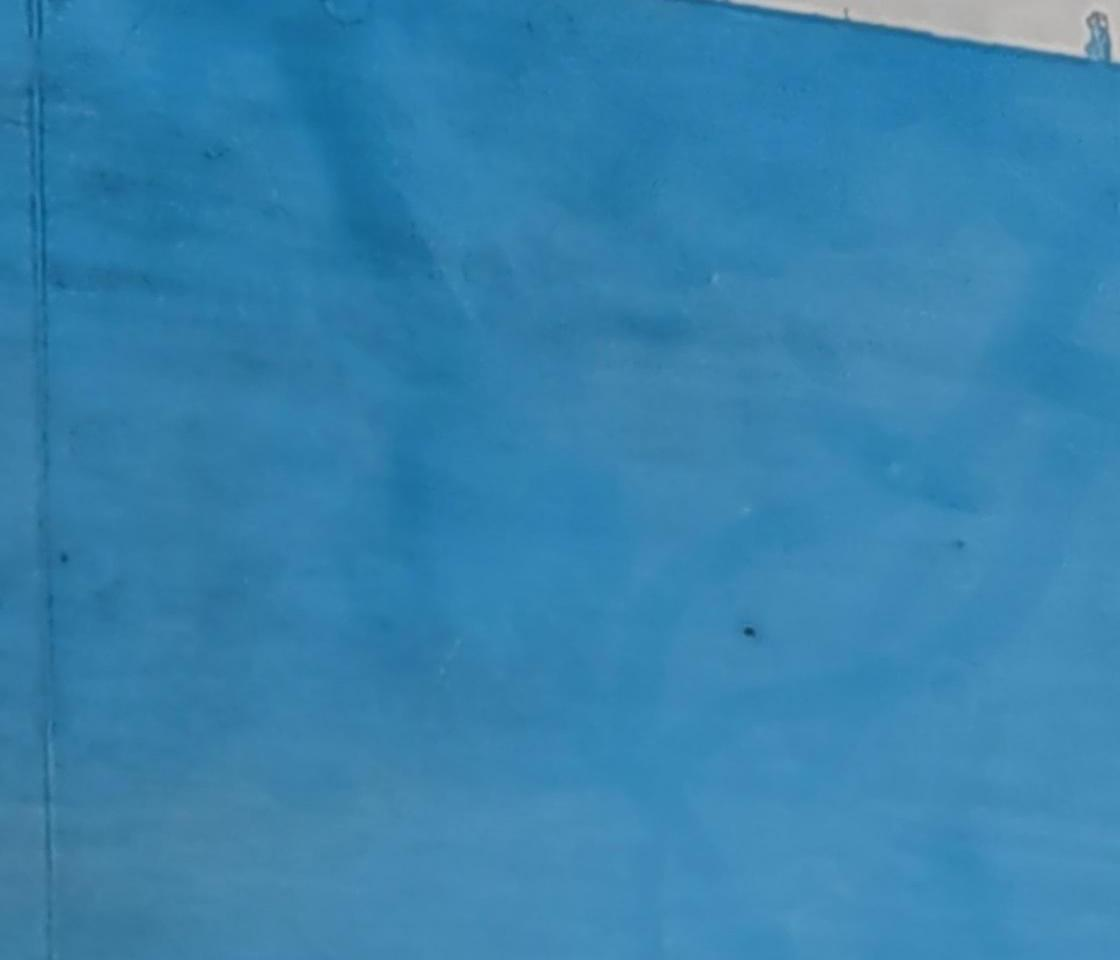scratch: (727, 615, 769, 646)
